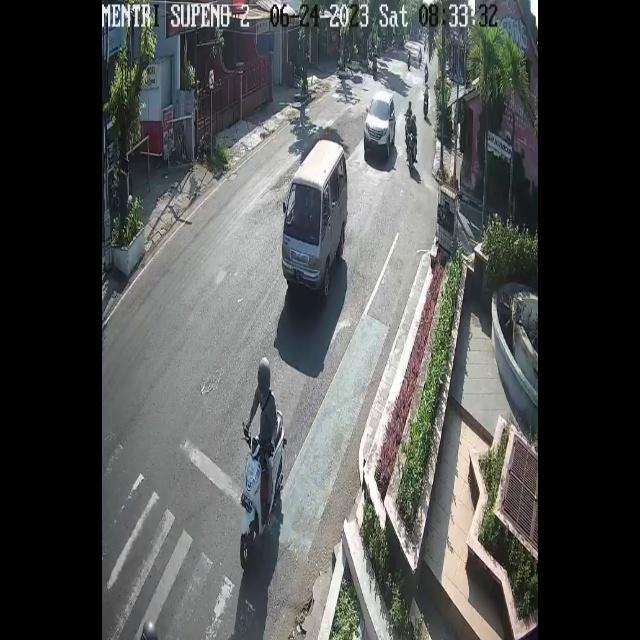bus: (238, 409, 286, 573), (406, 132, 418, 174), (422, 93, 430, 122)
motorcycle: (282, 139, 347, 297), (364, 91, 396, 164)
